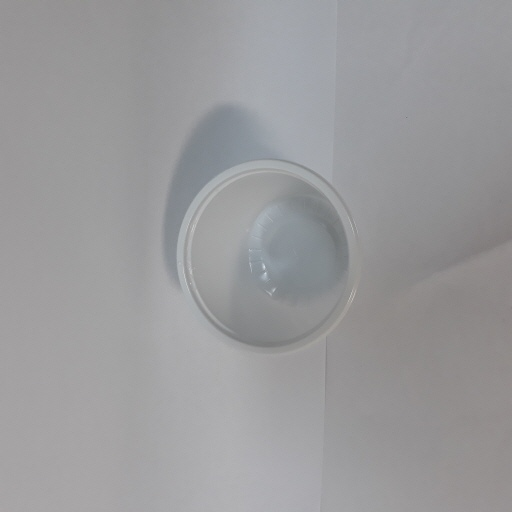Plastic_5: (173, 155, 365, 358)
